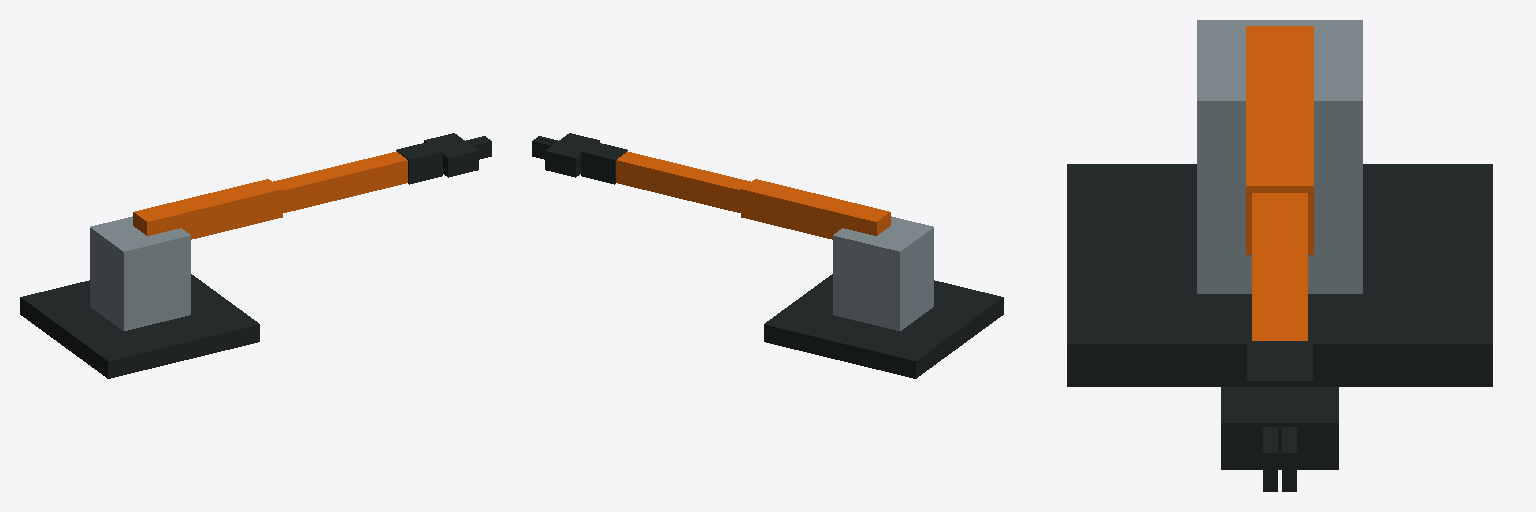
robot.urdf — brazo_clasificador:
<?xml version="1.0"?>
<!-- Brazo clasificador de vasos de monedas, 5 GDL + pinza de dedos paralelos.
     Unidades del URDF: metros y radianes. Equivalencia con la memoria de cálculo:
     d1 = 0,11 m | L1 = 0,16 m | L2 = 0,15 m | L3 = 0,08 m
     En la configuración cero el brazo queda extendido horizontal hacia +X. -->
<robot name="brazo_clasificador">

  <material name="naranja"><color rgba="0.88 0.43 0.09 1"/></material>
  <material name="grafito"><color rgba="0.17 0.19 0.19 1"/></material>
  <material name="acero"><color rgba="0.55 0.60 0.62 1"/></material>

  <!-- ================= base fija ================= -->
  <link name="base_link">
    <visual>
      <origin xyz="0 0 0.01"/>
      <geometry><box size="0.18 0.18 0.02"/></geometry>
      <material name="grafito"/>
    </visual>
    <collision>
      <origin xyz="0 0 0.01"/>
      <geometry><box size="0.18 0.18 0.02"/></geometry>
    </collision>
    <inertial>
      <mass value="1.2"/>
      <origin xyz="0 0 0.01"/>
      <inertia ixx="0.0033" ixy="0" ixz="0" iyy="0.0033" iyz="0" izz="0.0065"/>
    </inertial>
  </link>

  <!-- ================= J1: giro de base ================= -->
  <joint name="j1_base" type="revolute">
    <parent link="base_link"/>
    <child link="columna_link"/>
    <origin xyz="0 0 0.02" rpy="0 0 0"/>
    <axis xyz="0 0 1"/>
    <limit lower="-1.5708" upper="1.5708" effort="1.08" velocity="6.0"/>
    <dynamics damping="0.05" friction="0.02"/>
  </joint>

  <link name="columna_link">
    <visual>
      <origin xyz="0 0 0.045"/>
      <geometry><box size="0.08 0.07 0.09"/></geometry>
      <material name="acero"/>
    </visual>
    <collision>
      <origin xyz="0 0 0.045"/>
      <geometry><box size="0.08 0.07 0.09"/></geometry>
    </collision>
    <inertial>
      <mass value="0.25"/>
      <origin xyz="0 0 0.045"/>
      <inertia ixx="0.0004" ixy="0" ixz="0" iyy="0.0004" iyz="0" izz="0.0003"/>
    </inertial>
  </link>

  <!-- ================= J2: hombro ================= -->
  <joint name="j2_hombro" type="revolute">
    <parent link="columna_link"/>
    <child link="brazo_link"/>
    <origin xyz="0 0 0.09" rpy="0 0 0"/>
    <axis xyz="0 -1 0"/>
    <limit lower="0.0" upper="3.1416" effort="3.14" velocity="5.0"/>
    <dynamics damping="0.08" friction="0.03"/>
  </joint>

  <link name="brazo_link">
    <visual>
      <origin xyz="0.08 0 0"/>
      <geometry><box size="0.16 0.029 0.032"/></geometry>
      <material name="naranja"/>
    </visual>
    <collision>
      <origin xyz="0.08 0 0"/>
      <geometry><box size="0.16 0.029 0.032"/></geometry>
    </collision>
    <inertial>
      <mass value="0.105"/>
      <origin xyz="0.08 0 0"/>
      <inertia ixx="0.00002" ixy="0" ixz="0" iyy="0.00023" iyz="0" izz="0.00023"/>
    </inertial>
  </link>

  <!-- ================= J3: codo ================= -->
  <joint name="j3_codo" type="revolute">
    <parent link="brazo_link"/>
    <child link="antebrazo_link"/>
    <origin xyz="0.16 0 0" rpy="0 0 0"/>
    <axis xyz="0 -1 0"/>
    <limit lower="-2.6180" upper="0.0" effort="2.00" velocity="5.0"/>
    <dynamics damping="0.06" friction="0.02"/>
  </joint>

  <link name="antebrazo_link">
    <visual>
      <origin xyz="0.075 0 0"/>
      <geometry><box size="0.15 0.024 0.026"/></geometry>
      <material name="naranja"/>
    </visual>
    <collision>
      <origin xyz="0.075 0 0"/>
      <geometry><box size="0.15 0.024 0.026"/></geometry>
    </collision>
    <inertial>
      <mass value="0.090"/>
      <origin xyz="0.075 0 0"/>
      <inertia ixx="0.00001" ixy="0" ixz="0" iyy="0.00017" iyz="0" izz="0.00017"/>
    </inertial>
  </link>

  <!-- ================= J4: cabeceo de muñeca ================= -->
  <joint name="j4_cabeceo" type="revolute">
    <parent link="antebrazo_link"/>
    <child link="muneca_link"/>
    <origin xyz="0.15 0 0" rpy="0 0 0"/>
    <axis xyz="0 -1 0"/>
    <limit lower="-2.0944" upper="1.0472" effort="1.08" velocity="5.0"/>
    <dynamics damping="0.04" friction="0.02"/>
  </joint>

  <link name="muneca_link">
    <visual>
      <origin xyz="0.02 0 0"/>
      <geometry><box size="0.04 0.028 0.028"/></geometry>
      <material name="grafito"/>
    </visual>
    <collision>
      <origin xyz="0.02 0 0"/>
      <geometry><box size="0.04 0.028 0.028"/></geometry>
    </collision>
    <inertial>
      <mass value="0.030"/>
      <origin xyz="0.02 0 0"/>
      <inertia ixx="0.000006" ixy="0" ixz="0" iyy="0.000008" iyz="0" izz="0.000008"/>
    </inertial>
  </link>

  <!-- ================= J5: giro de muñeca ================= -->
  <joint name="j5_giro" type="revolute">
    <parent link="muneca_link"/>
    <child link="pinza_link"/>
    <origin xyz="0.04 0 0" rpy="0 0 0"/>
    <axis xyz="1 0 0"/>
    <limit lower="-1.5708" upper="1.5708" effort="0.22" velocity="6.0"/>
    <dynamics damping="0.03" friction="0.01"/>
  </joint>

  <link name="pinza_link">
    <visual>
      <origin xyz="0.018 0 0"/>
      <geometry><box size="0.036 0.05 0.022"/></geometry>
      <material name="grafito"/>
    </visual>
    <collision>
      <origin xyz="0.018 0 0"/>
      <geometry><box size="0.036 0.05 0.022"/></geometry>
    </collision>
    <inertial>
      <mass value="0.045"/>
      <origin xyz="0.018 0 0"/>
      <inertia ixx="0.00001" ixy="0" ixz="0" iyy="0.00001" iyz="0" izz="0.00001"/>
    </inertial>
  </link>

  <!-- ================= dedos paralelos ================= -->
  <joint name="dedo_izq" type="prismatic">
    <parent link="pinza_link"/>
    <child link="dedo_izq_link"/>
    <origin xyz="0.040 0 0" rpy="0 0 0"/>
    <axis xyz="0 1 0"/>
    <limit lower="0.0" upper="0.035" effort="12.0" velocity="0.1"/>
  </joint>

  <link name="dedo_izq_link">
    <visual>
      <origin xyz="0.0 0.004 0"/>
      <geometry><box size="0.043 0.006 0.018"/></geometry>
      <material name="grafito"/>
    </visual>
    <collision>
      <origin xyz="0.0 0.004 0"/>
      <geometry><box size="0.043 0.006 0.018"/></geometry>
    </collision>
    <inertial>
      <mass value="0.010"/>
      <inertia ixx="0.000001" ixy="0" ixz="0" iyy="0.000002" iyz="0" izz="0.000002"/>
    </inertial>
  </link>

  <joint name="dedo_der" type="prismatic">
    <parent link="pinza_link"/>
    <child link="dedo_der_link"/>
    <origin xyz="0.040 0 0" rpy="0 0 0"/>
    <axis xyz="0 -1 0"/>
    <limit lower="0.0" upper="0.035" effort="12.0" velocity="0.1"/>
    <mimic joint="dedo_izq" multiplier="1.0" offset="0.0"/>
  </joint>

  <link name="dedo_der_link">
    <visual>
      <origin xyz="0.0 -0.004 0"/>
      <geometry><box size="0.043 0.006 0.018"/></geometry>
      <material name="grafito"/>
    </visual>
    <collision>
      <origin xyz="0.0 -0.004 0"/>
      <geometry><box size="0.043 0.006 0.018"/></geometry>
    </collision>
    <inertial>
      <mass value="0.010"/>
      <inertia ixx="0.000001" ixy="0" ixz="0" iyy="0.000002" iyz="0" izz="0.000002"/>
    </inertial>
  </link>

  <!-- ================= TCP de referencia ================= -->
  <joint name="tcp_fijo" type="fixed">
    <parent link="pinza_link"/>
    <child link="tcp_link"/>
    <origin xyz="0.04 0 0" rpy="0 0 0"/>
  </joint>

  <link name="tcp_link">
    <inertial>
      <mass value="0.001"/>
      <inertia ixx="1e-8" ixy="0" ixz="0" iyy="1e-8" iyz="0" izz="1e-8"/>
    </inertial>
  </link>

</robot>

--- What the picture shows (computed from the rendered views, not written in the file) ---
The picture shows the robot from 3 angles, left to right: view 1: azimuth 30°, elevation 25°; view 2: azimuth 150°, elevation 25°; view 3: azimuth 270°, elevation 25°; orthographic projection.
Robot: brazo_clasificador — 9 links, 8 joints (5 revolute, 2 prismatic, 1 fixed); root link base_link; default pose: all joints at 0.
Links seen in each view (by area): view 1: base_link, columna_link, brazo_link, antebrazo_link, pinza_link, muneca_link; view 2: base_link, columna_link, brazo_link, antebrazo_link, pinza_link, muneca_link; view 3: base_link, columna_link, brazo_link, pinza_link, antebrazo_link, muneca_link, dedo_izq_link, dedo_der_link.
Link boxes in pixels (<box>): base_link: <box>20,274,259,378</box>; columna_link: <box>90,216,190,330</box>; brazo_link: <box>133,179,282,239</box>; antebrazo_link: <box>273,151,407,212</box>; pinza_link: <box>424,133,478,177</box>; muneca_link: <box>396,142,442,184</box>; base_link: <box>764,274,1003,378</box>; columna_link: <box>833,216,933,330</box>; brazo_link: <box>741,179,890,239</box>; antebrazo_link: <box>616,151,750,212</box>; pinza_link: <box>545,133,599,177</box>; muneca_link: <box>581,142,627,184</box>; base_link: <box>1067,164,1492,386</box>; columna_link: <box>1197,20,1362,293</box>; brazo_link: <box>1246,26,1313,254</box>; pinza_link: <box>1221,387,1338,469</box>; antebrazo_link: <box>1252,193,1307,340</box>; muneca_link: <box>1247,341,1312,386</box>; dedo_izq_link: <box>1282,427,1296,491</box>; dedo_der_link: <box>1263,427,1277,491</box>.
Bounding box of the posed robot: 0.5015 × 0.18 × 0.126 m (x, y, z).
Geometry: primitives only (box / cylinder / sphere), no mesh files.
